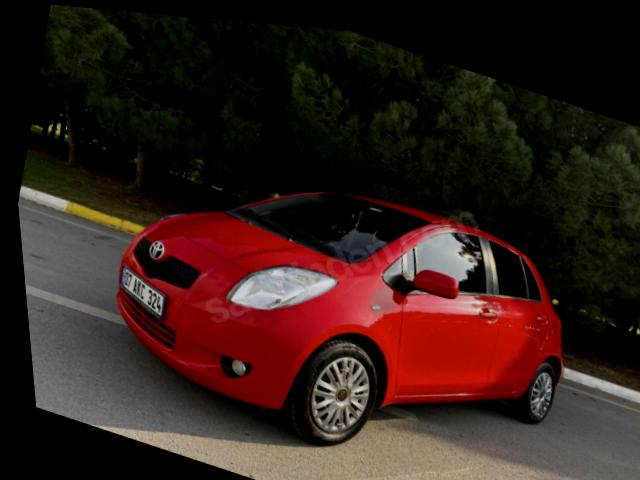plaka: (120, 268, 165, 319)
